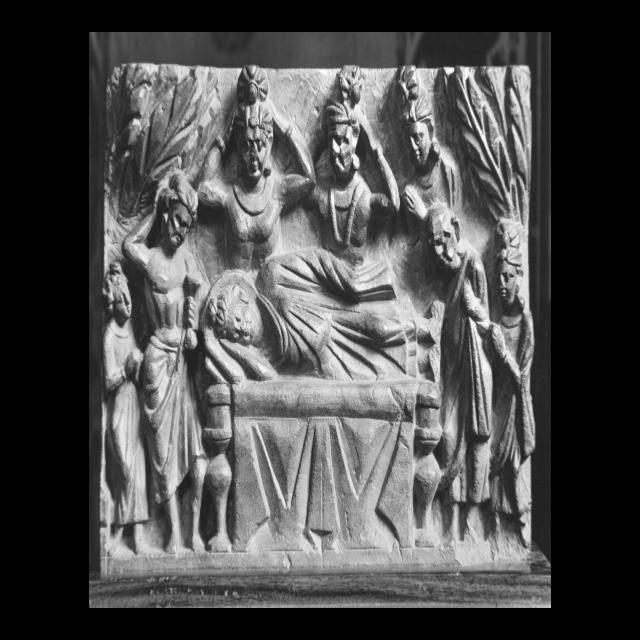buddha-sleeping: (202, 249, 444, 553)
